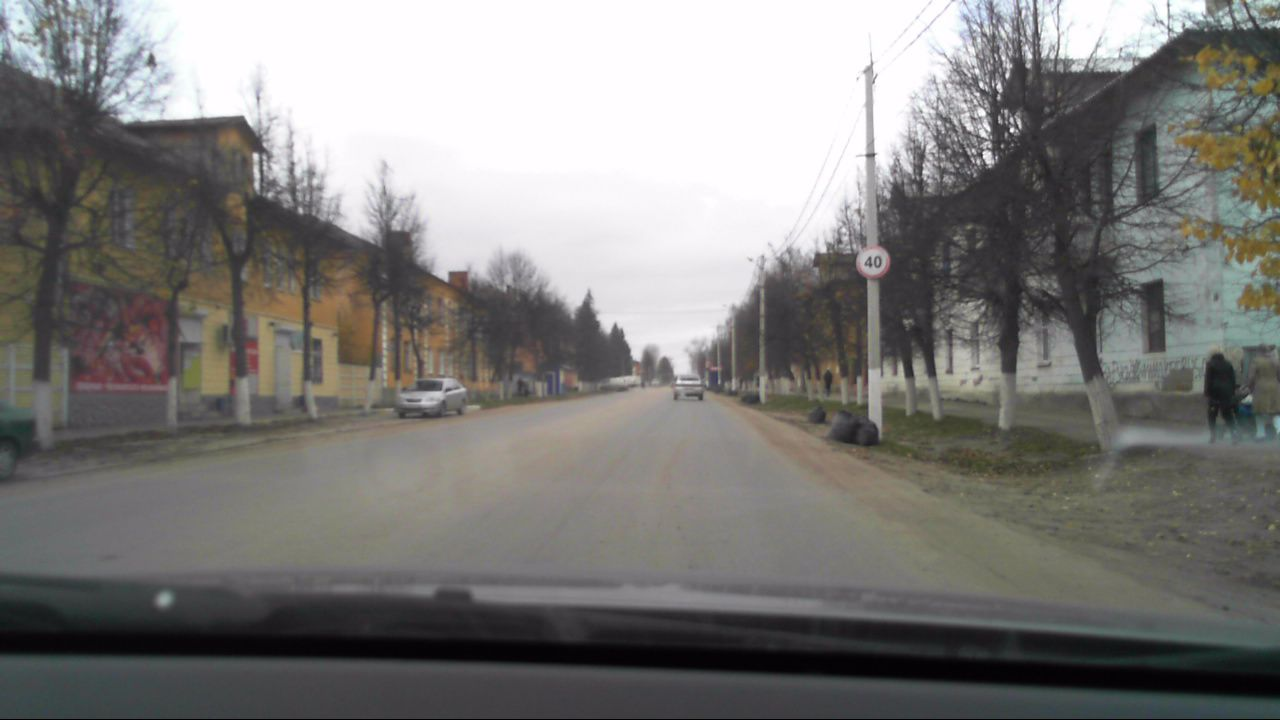speed_warning_40: (854, 244, 888, 276)
